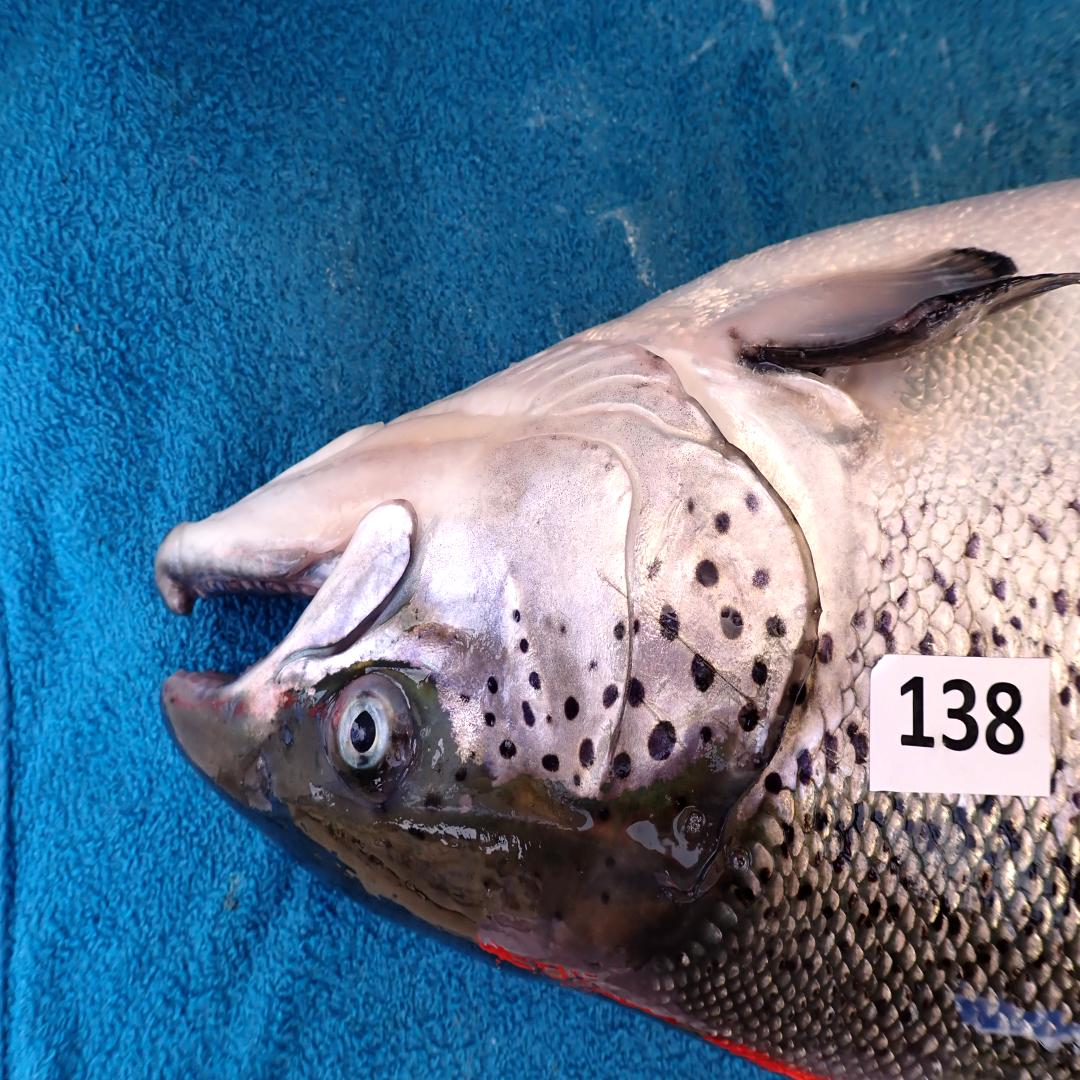roi: (415, 331, 819, 801)
